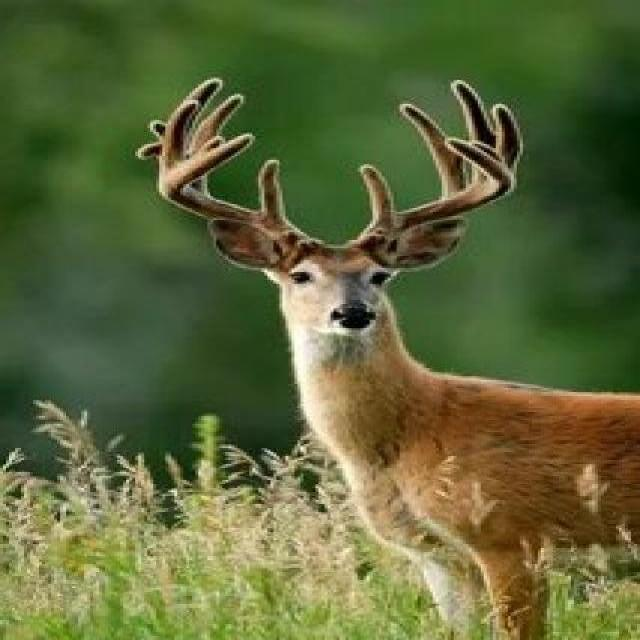deer: (73, 33, 640, 640)
